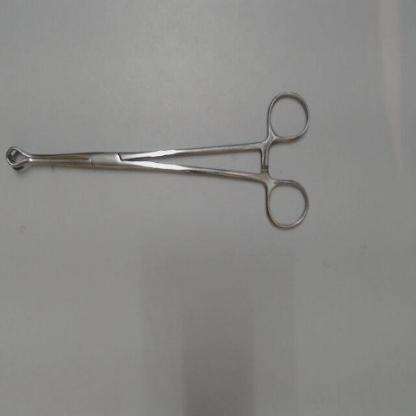8 Babcock Tissue Forceps: (4, 82, 314, 238)
